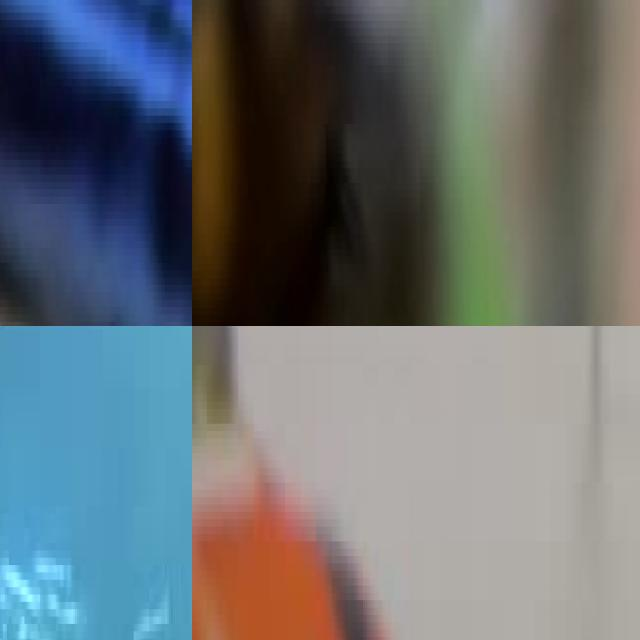fish: (192, 0, 437, 326), (0, 0, 192, 326)
